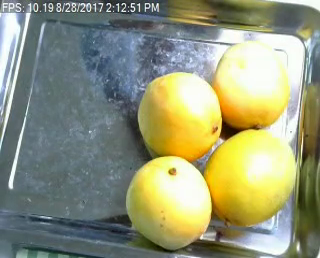Mango: (205, 128, 298, 227), (126, 156, 210, 249), (136, 73, 219, 158), (216, 42, 290, 128)
